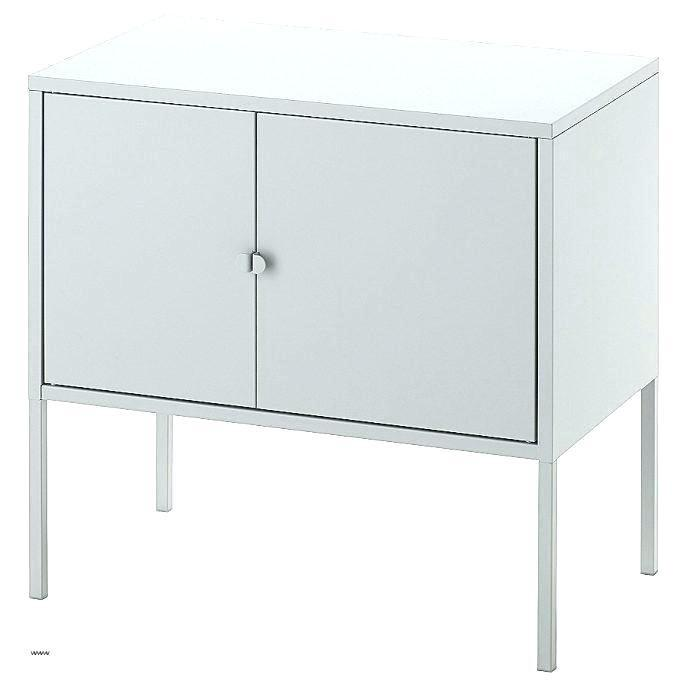cabinet_door: (262, 132, 542, 430), (44, 101, 255, 394)
handle: (231, 244, 251, 276), (252, 250, 271, 283)
